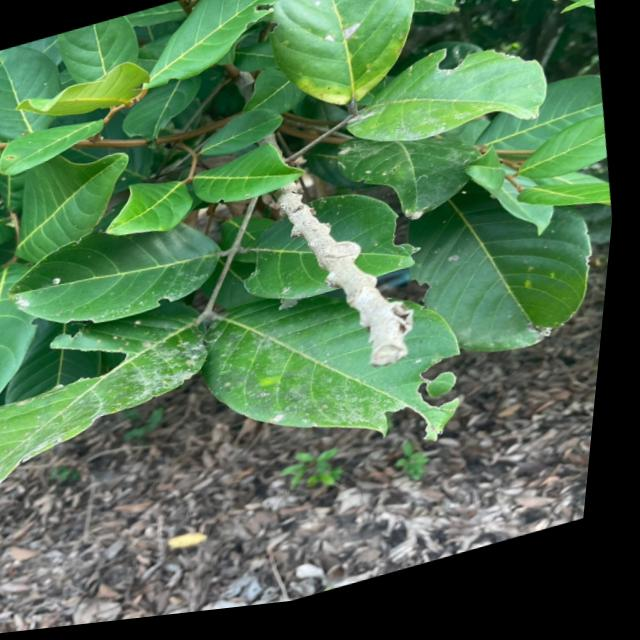Algal Leaf Spot: (51, 334, 230, 440)
